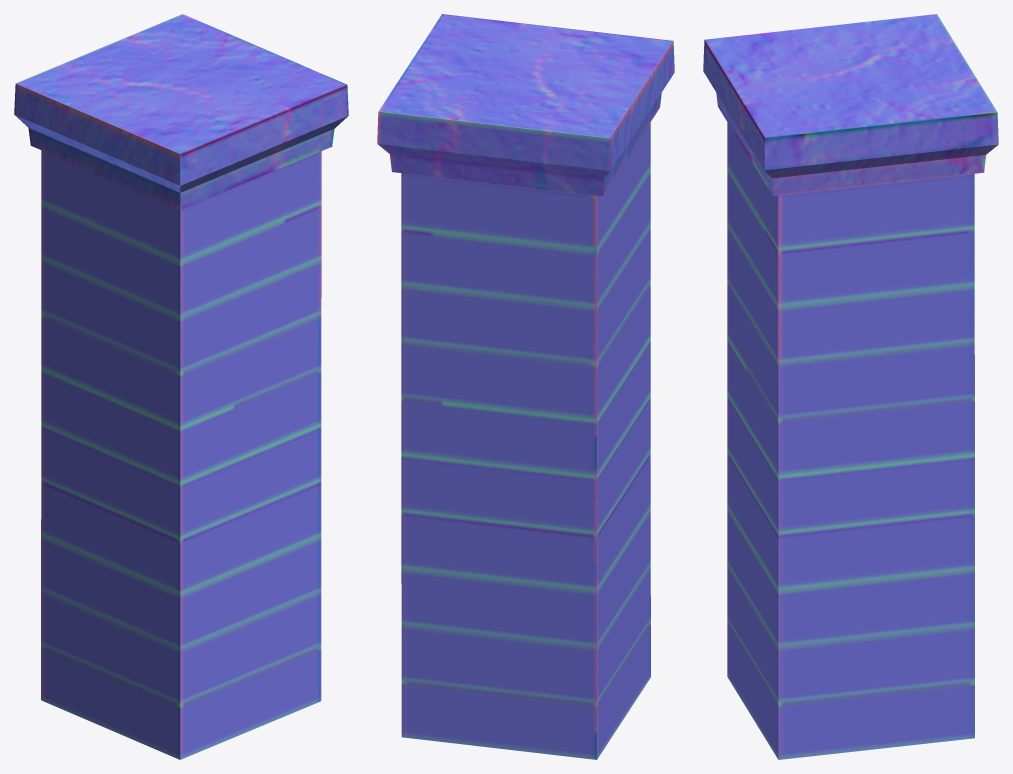
3 views of the same model, side by side, from view 1: azimuth 30°, elevation 25°; view 2: azimuth 150°, elevation 25°; view 3: azimuth 270°, elevation 25° (orthographic). The views are drawn at different scales.
Visible parts, largest first — view 1: pillar_low_007; view 2: pillar_low_007; view 3: pillar_low_007.
Boxes of the visible parts, x1=… form: pillar_low_007: x1=14, y1=14, x2=348, y2=759; pillar_low_007: x1=377, y1=14, x2=674, y2=759; pillar_low_007: x1=703, y1=14, x2=998, y2=759.
Bounding box in the file's own units: 83.81 × 198 × 83.81.
